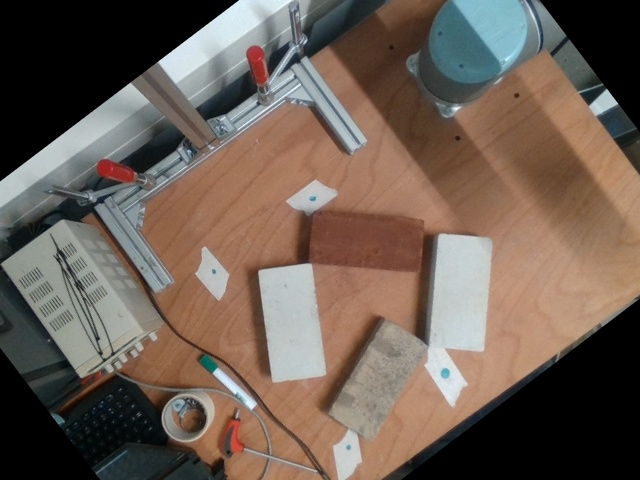brick: (326, 320, 431, 442), (260, 265, 325, 382), (429, 234, 492, 351), (310, 213, 420, 270)
